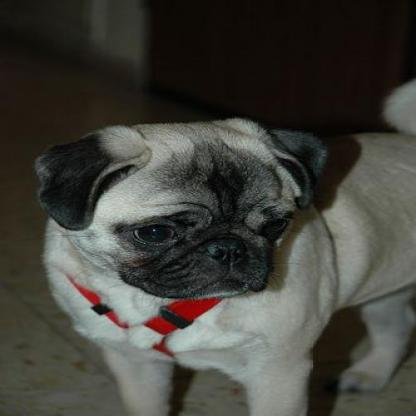pug: (33, 79, 412, 414)
